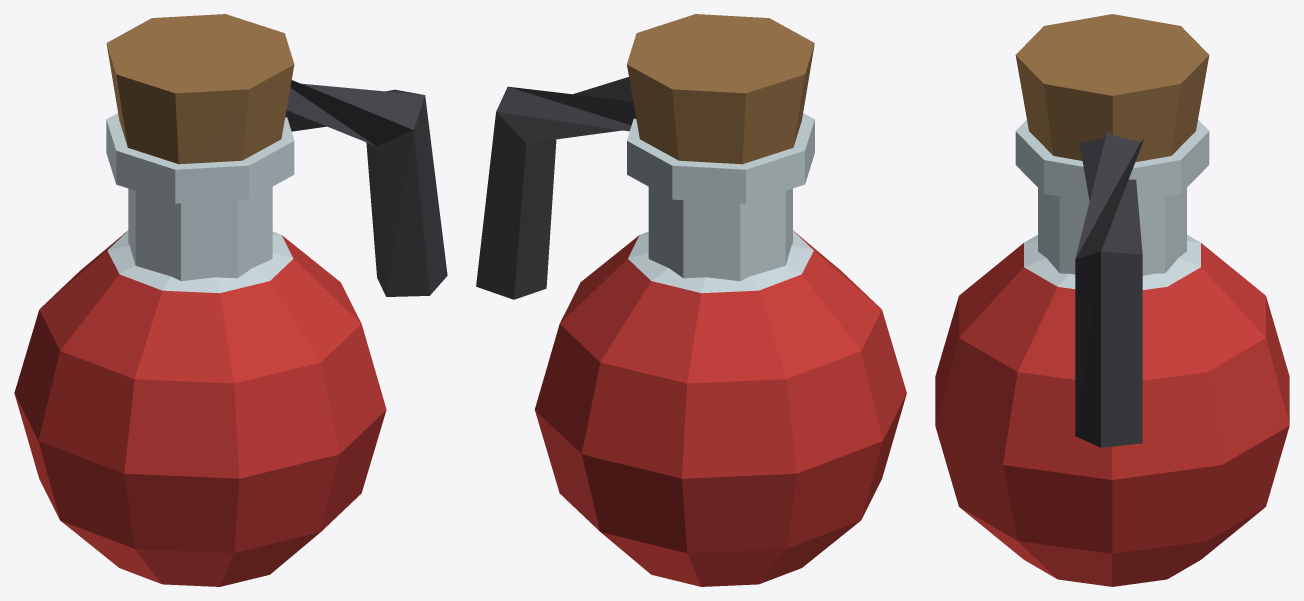
Rendered from vfem2_draught_healing.obj.
The picture shows the model from 3 angles, left to right: view 1: azimuth 30°, elevation 25°; view 2: azimuth 150°, elevation 25°; view 3: azimuth 270°, elevation 25°; orthographic projection.
Parts seen in each view (by area): view 1: vfem2_draught_healing; view 2: vfem2_draught_healing; view 3: vfem2_draught_healing.
Part boxes in pixels (x1=…): vfem2_draught_healing: x1=14, y1=14, x2=447, y2=586; vfem2_draught_healing: x1=476, y1=14, x2=906, y2=586; vfem2_draught_healing: x1=935, y1=14, x2=1289, y2=586.
Size of the model in its own units: 0.2489 by 0.305 by 0.1902.
